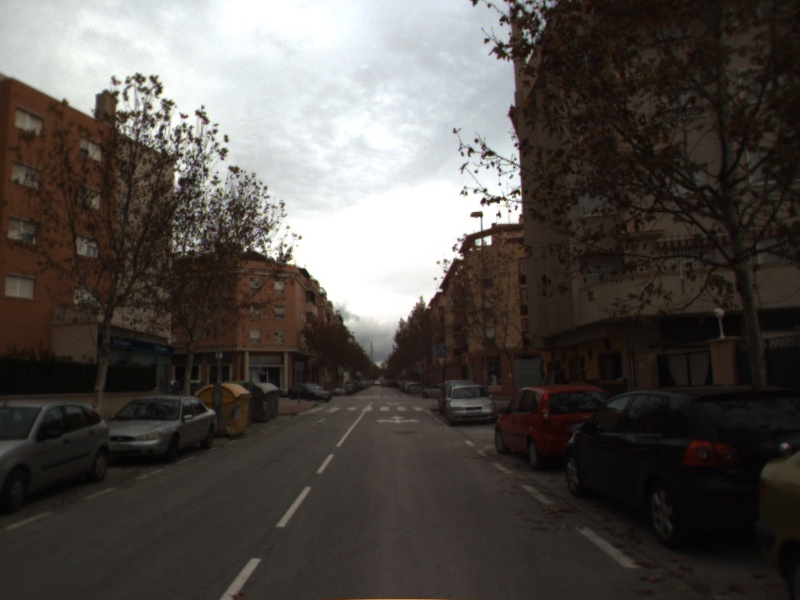STRAIGHT_LEFT_RIGHT: (374, 413, 422, 426)
